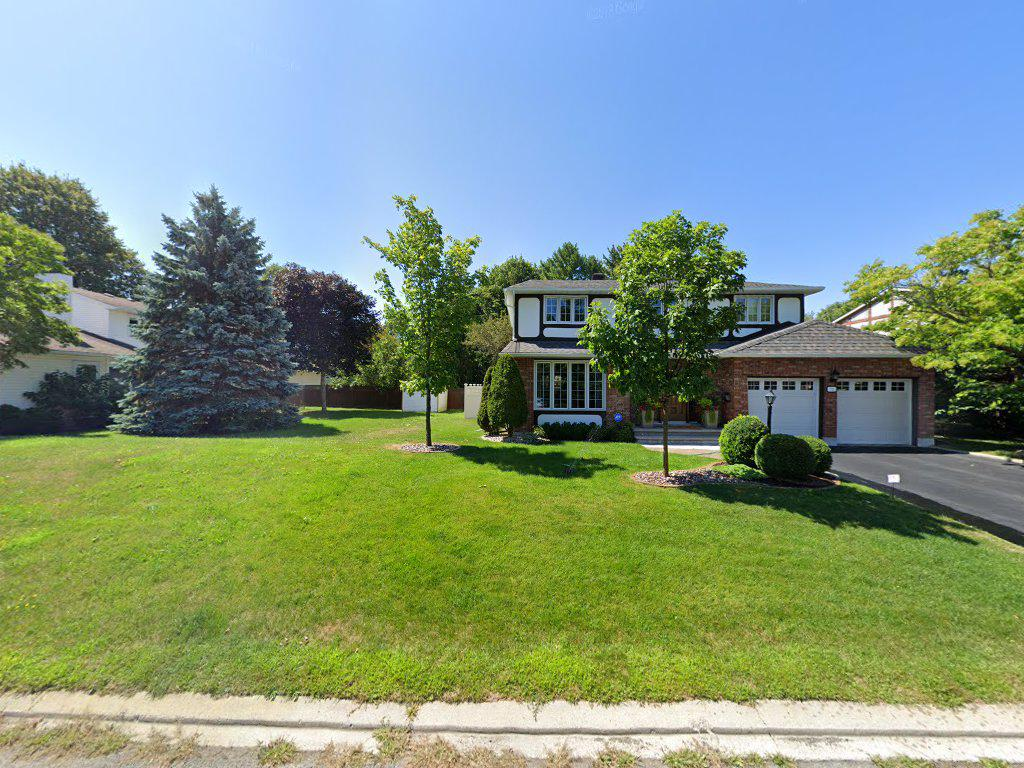trunk: (422, 383, 434, 450)
